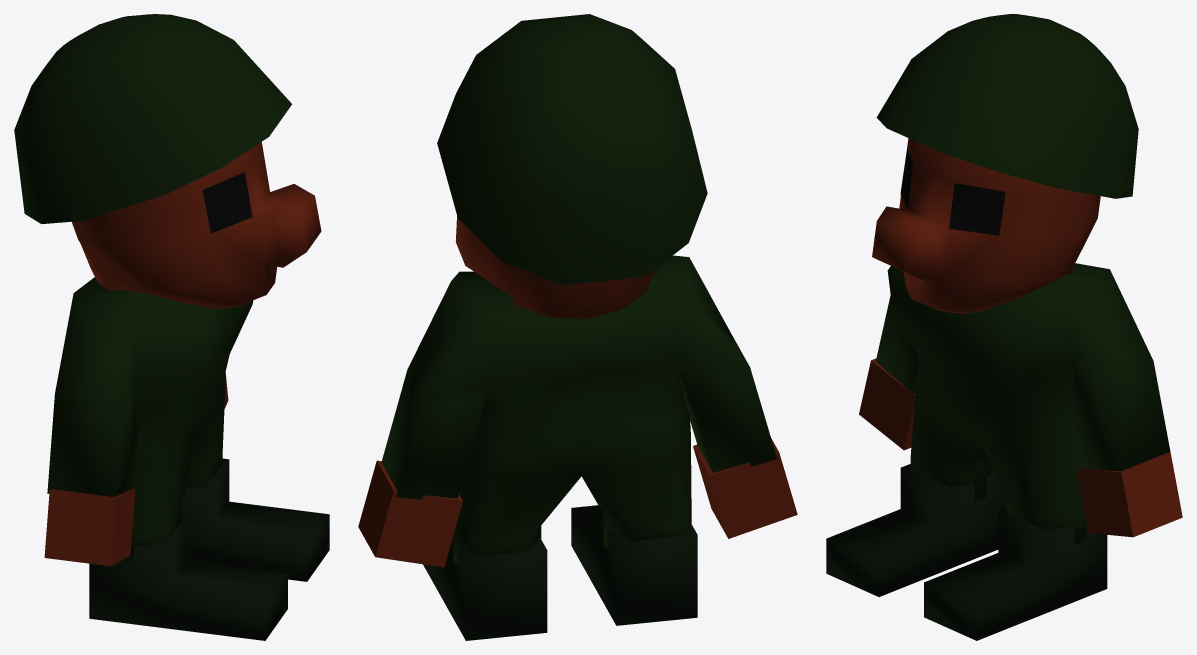
The model's file is soldier-06.FBX.
3 views of the same model, side by side, from view 1: azimuth 30°, elevation 25°; view 2: azimuth 150°, elevation 25°; view 3: azimuth 270°, elevation 25° (orthographic). The views are drawn at different scales.
Visible parts, largest first — view 1: Soldier; view 2: Soldier; view 3: Soldier.
Boxes of the visible parts, left/top/right/bottom form: Soldier: left=14, top=14, right=329, bottom=640; Soldier: left=358, top=14, right=797, bottom=640; Soldier: left=826, top=14, right=1182, bottom=640.
Size of the model in its own units: 6.15 by 10.13 by 6.07.
